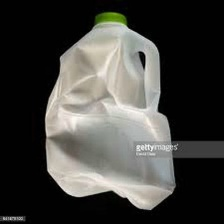bottle: (40, 8, 179, 213)
